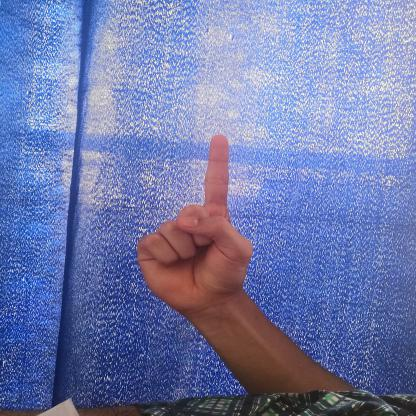BAA: (122, 130, 270, 327)
